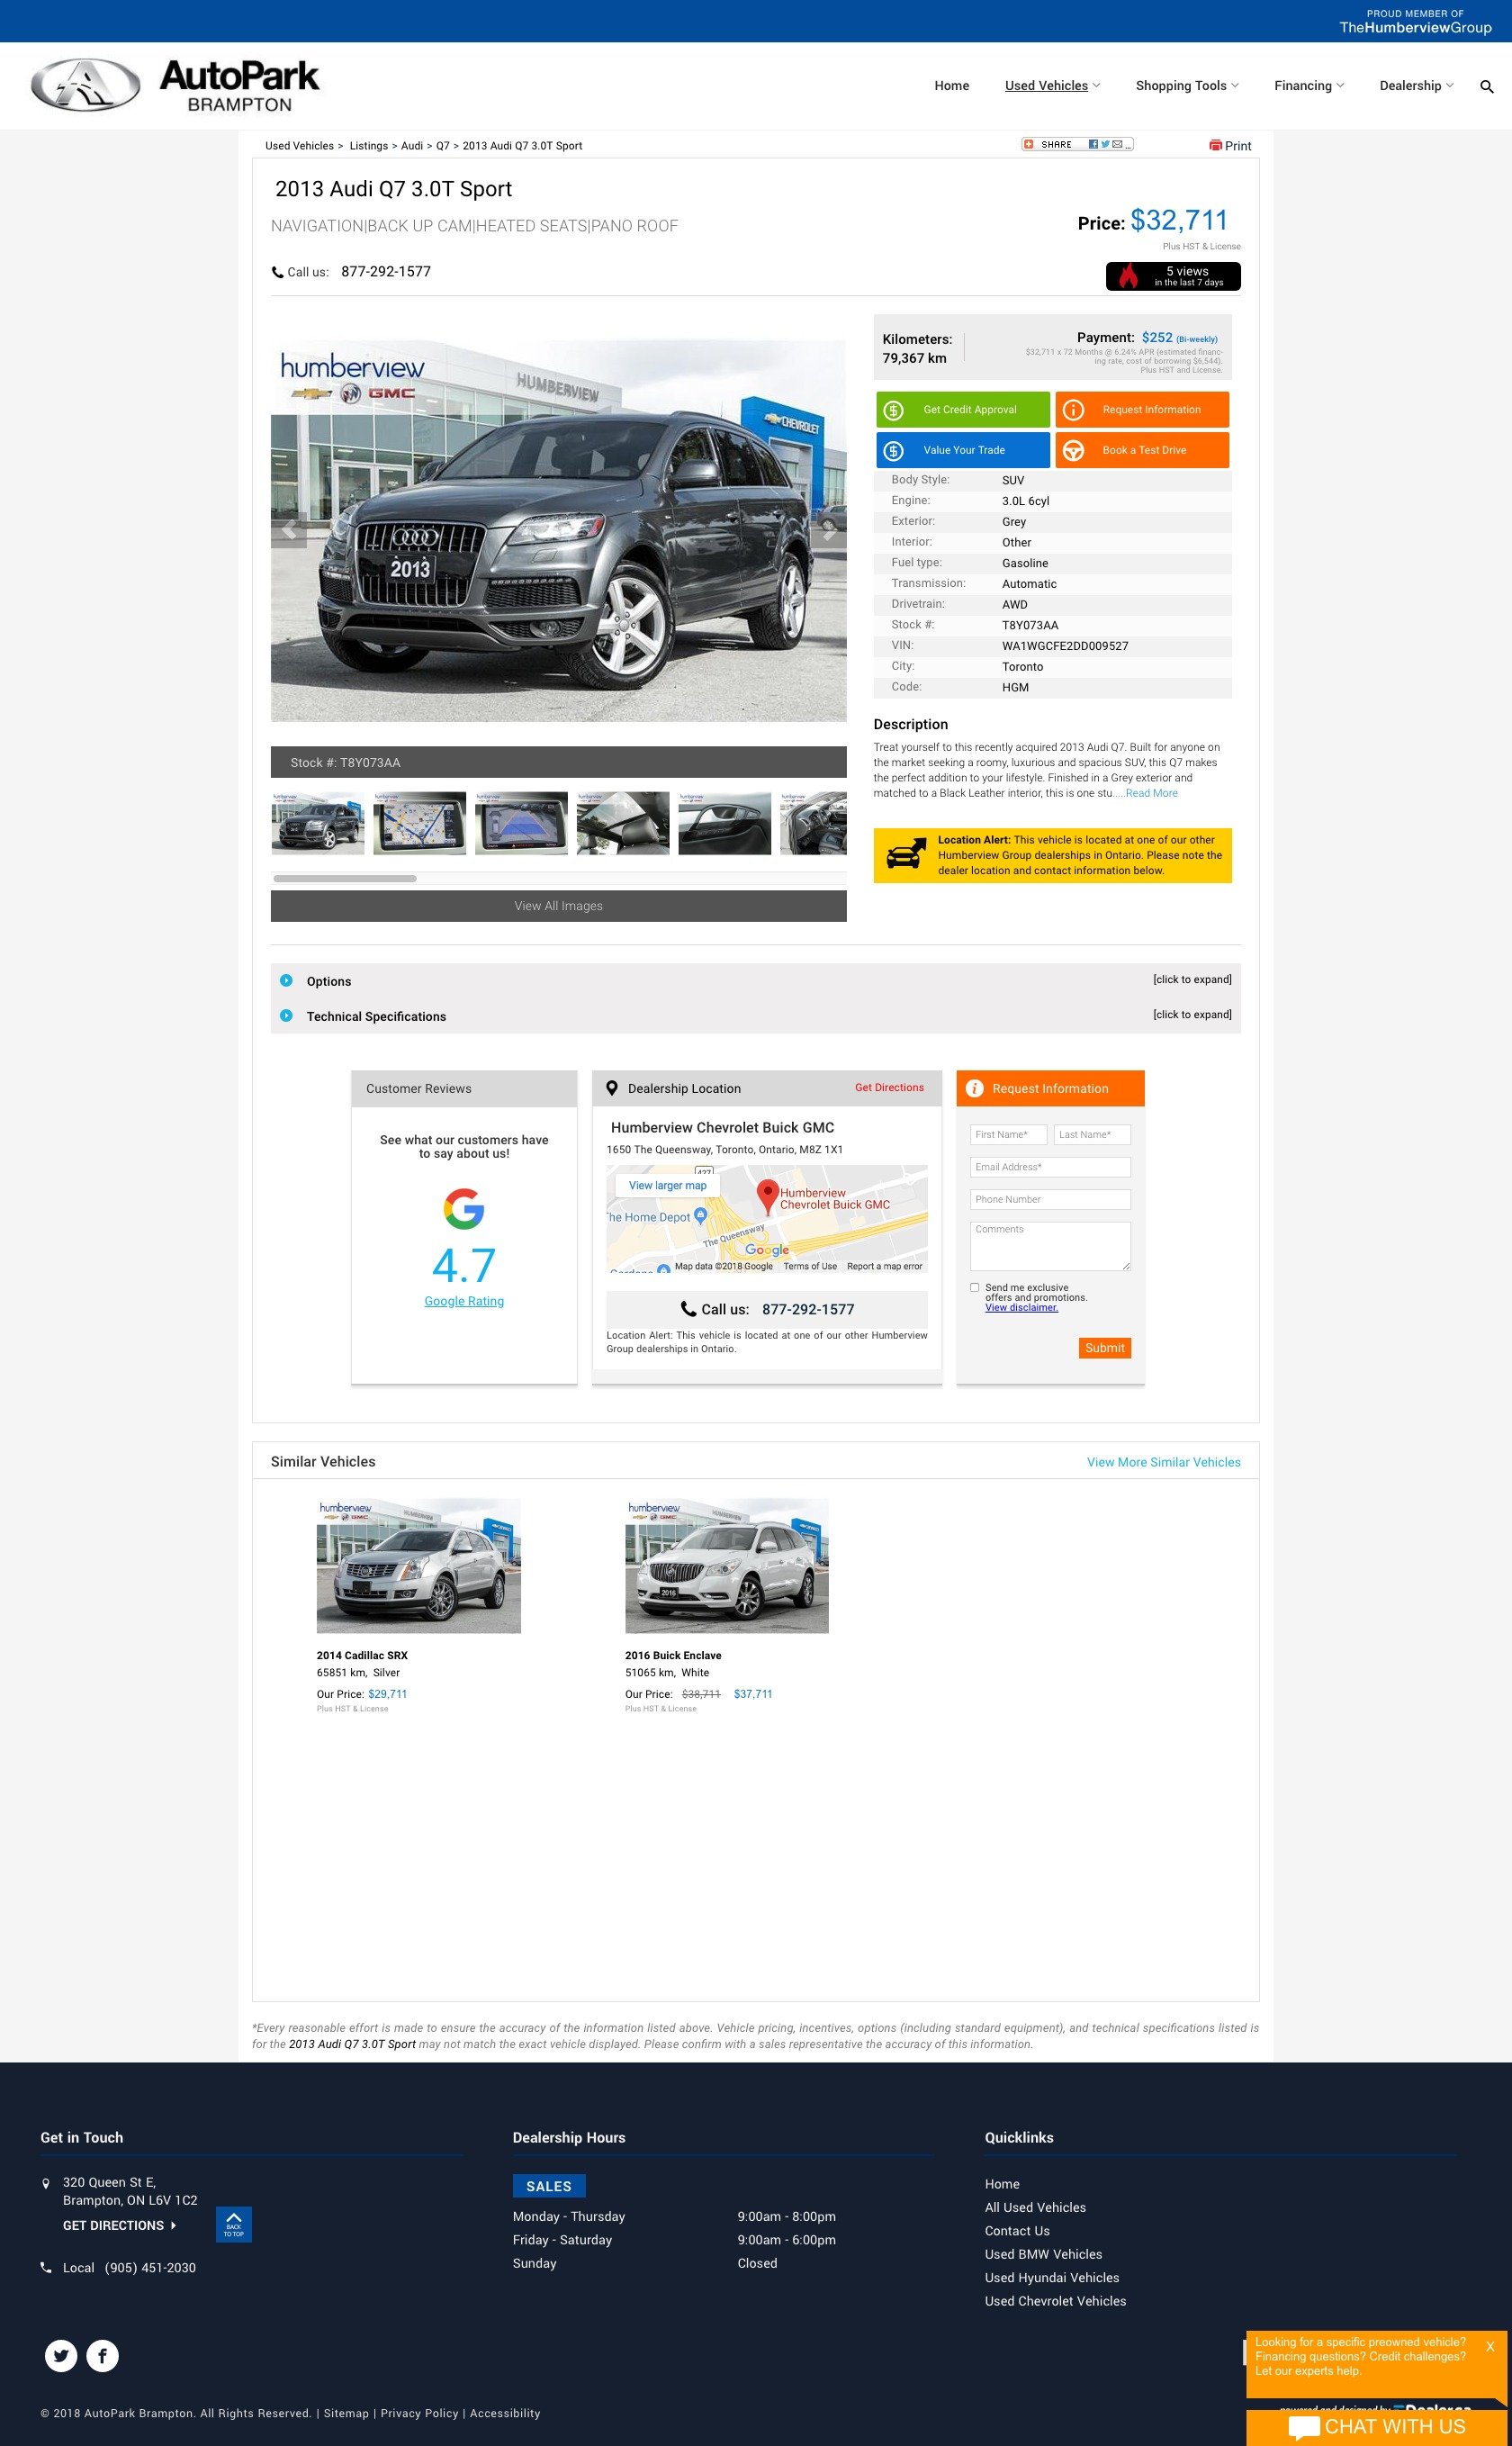car: (810, 510, 850, 550)
